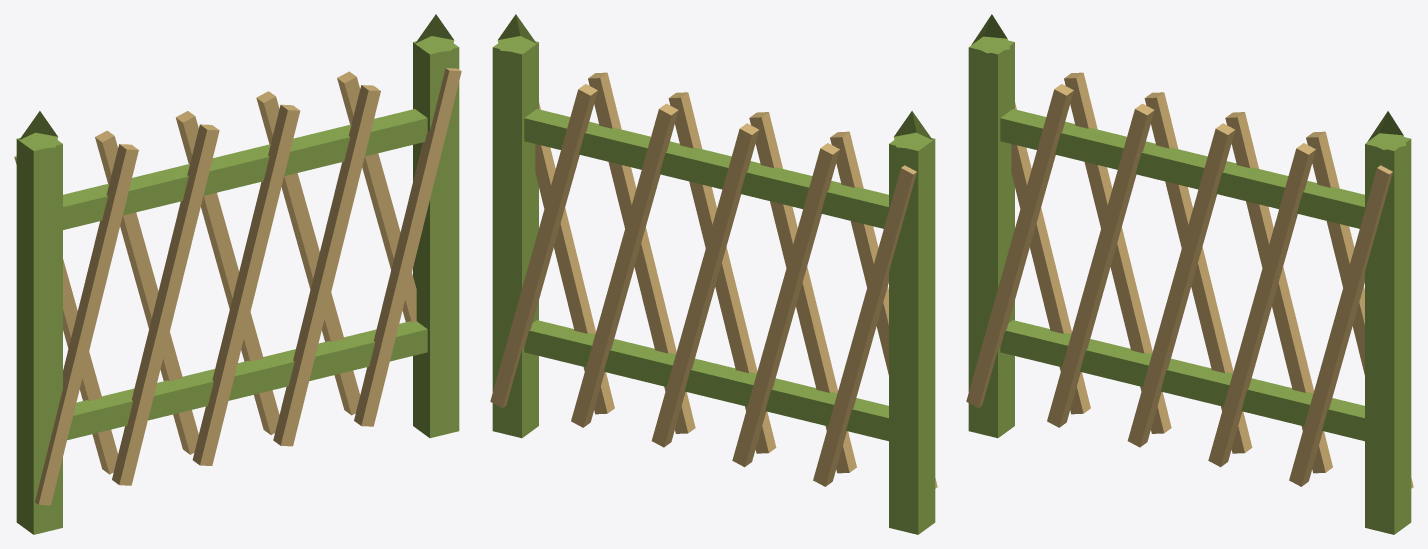
File: viet_fence_bamboo.glb
3 renders of one model, left to right at view 1: azimuth 30°, elevation 25°; view 2: azimuth 150°, elevation 25°; view 3: azimuth 330°, elevation 25°, orthographic.
Parts seen in each view (by area): view 1: viet_fence_bamboo; view 2: viet_fence_bamboo; view 3: viet_fence_bamboo.
Part boxes in pixels (left/top/right/bottom): viet_fence_bamboo: left=14, top=14, right=461, bottom=534; viet_fence_bamboo: left=490, top=14, right=937, bottom=534; viet_fence_bamboo: left=966, top=14, right=1413, bottom=534.
Bounding box in the file's own units: 1 × 0.9227 × 0.0983.
